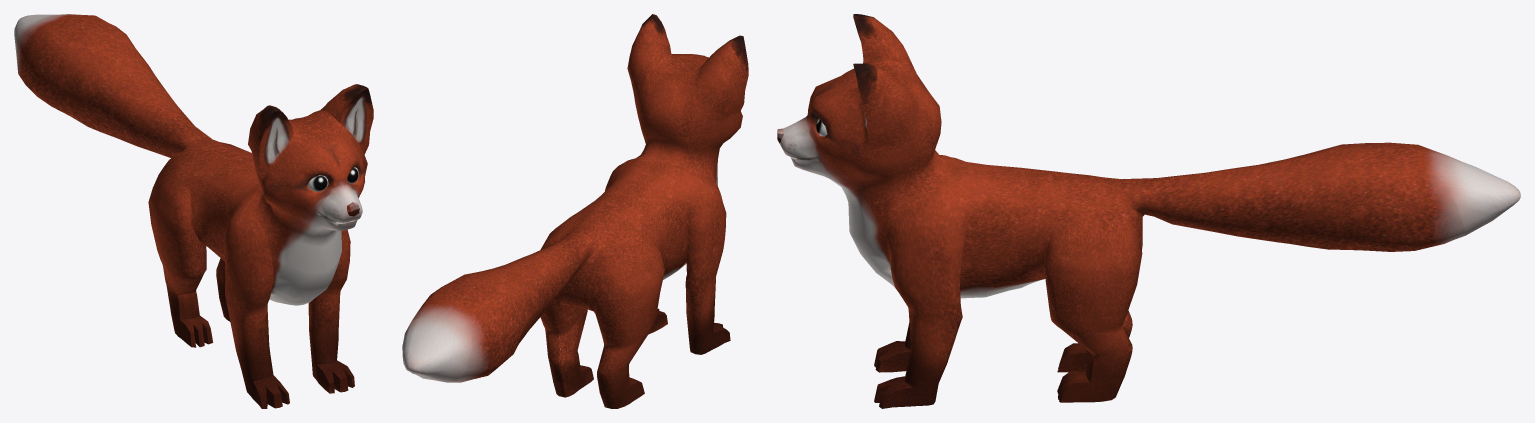
Rendered from HuLi.FBX.
The picture shows the model from 3 angles, left to right: view 1: azimuth 30°, elevation 25°; view 2: azimuth 150°, elevation 25°; view 3: azimuth 270°, elevation 25°; orthographic projection. The views are drawn at different scales.
Visible parts, largest first — view 1: ShenTi, WeiBa1 (×2), QianTui2, HouTui2, QianTui1, ErDuo2, ErDuo1, HouTui1, YanJing; view 2: ShenTi, WeiBa1 (×2), HouTui2, QianTui2, HouTui1, ErDuo2, ErDuo1, QianTui1; view 3: ShenTi, WeiBa1 (×2), HouTui1, QianTui1, ErDuo1, ErDuo2, QianTui2, HouTui2.
Boxes of the visible parts, x1,y1,x2,y2 form: ShenTi: (164,110,367,305); WeiBa1 (×2): (14,14,217,158); QianTui2: (224,202,289,408); HouTui2: (148,166,213,347); QianTui1: (308,229,354,393); ErDuo2: (248,105,293,179); ErDuo1: (320,84,373,154); HouTui1: (216,258,230,321); YanJing: (307,167,358,191); ShenTi: (547,54,742,313); WeiBa1 (×2): (402,229,599,382); HouTui2: (595,239,664,408); QianTui2: (685,176,730,354); HouTui1: (540,228,593,397); ErDuo2: (696,35,748,114); ErDuo1: (627,14,671,93); QianTui1: (605,163,667,334); ShenTi: (780,58,1144,298); WeiBa1 (×2): (1115,142,1520,251); HouTui1: (1044,223,1142,402); QianTui1: (874,197,966,408); ErDuo1: (853,63,921,149); ErDuo2: (853,14,916,72); QianTui2: (874,323,911,372); HouTui2: (1057,310,1132,372).
Bounding box in the file's own units: 21.38 × 54.09 × 106.
Materials: 11 (11 with a texture image).
